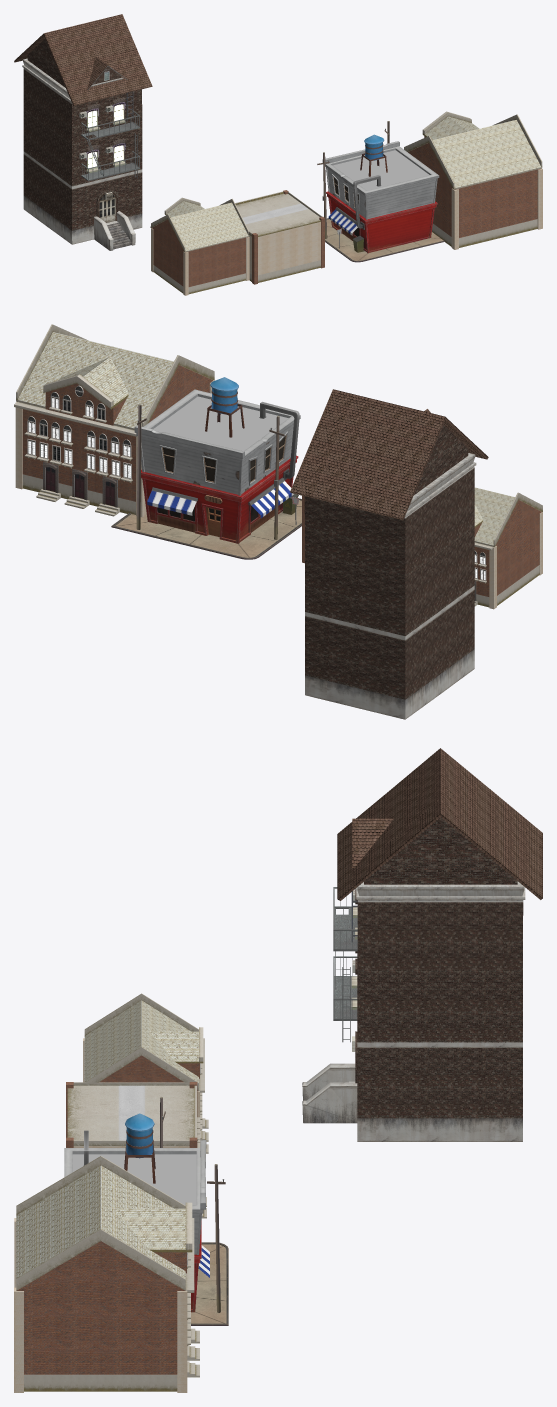
File: Building03.fbx
3 renders of one model, top to bottom at view 1: azimuth 30°, elevation 25°; view 2: azimuth 150°, elevation 25°; view 3: azimuth 270°, elevation 25°, orthographic. The views are drawn at different scales.
Parts seen in each view (by area): view 1: MeshBaker__4__mesh_mesh; view 2: MeshBaker__4__mesh_mesh; view 3: MeshBaker__4__mesh_mesh.
Boxes of the visible parts, x1,y1,x2,y2 form: MeshBaker__4__mesh_mesh: (14,14,542,295); MeshBaker__4__mesh_mesh: (14,324,542,719); MeshBaker__4__mesh_mesh: (14,748,542,1392).
Size of the model in its own units: 4089 by 2044 by 2933.
